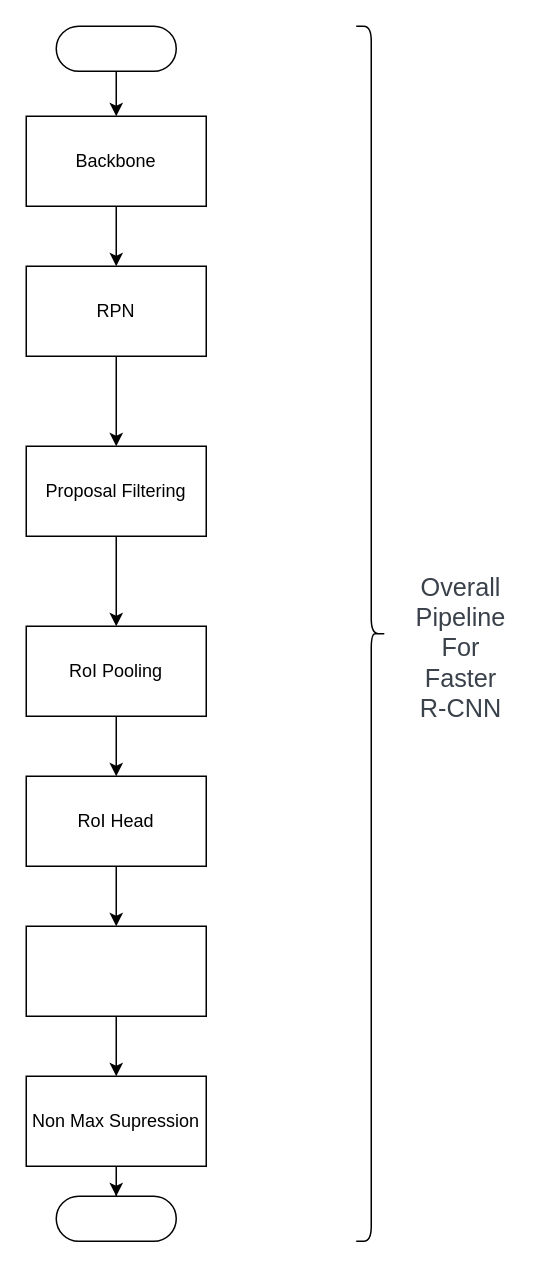
Image size: 533x1268. Some labels were removed from this diagram. The shapes that lost their labels are listed below. From the top down, each one's box as (x1, y1, x2, y2) in pixels, then its label:
(55, 25, 176, 71): Start
(25, 925, 206, 1016): Proposal Post Processing
(55, 1195, 176, 1241): End
